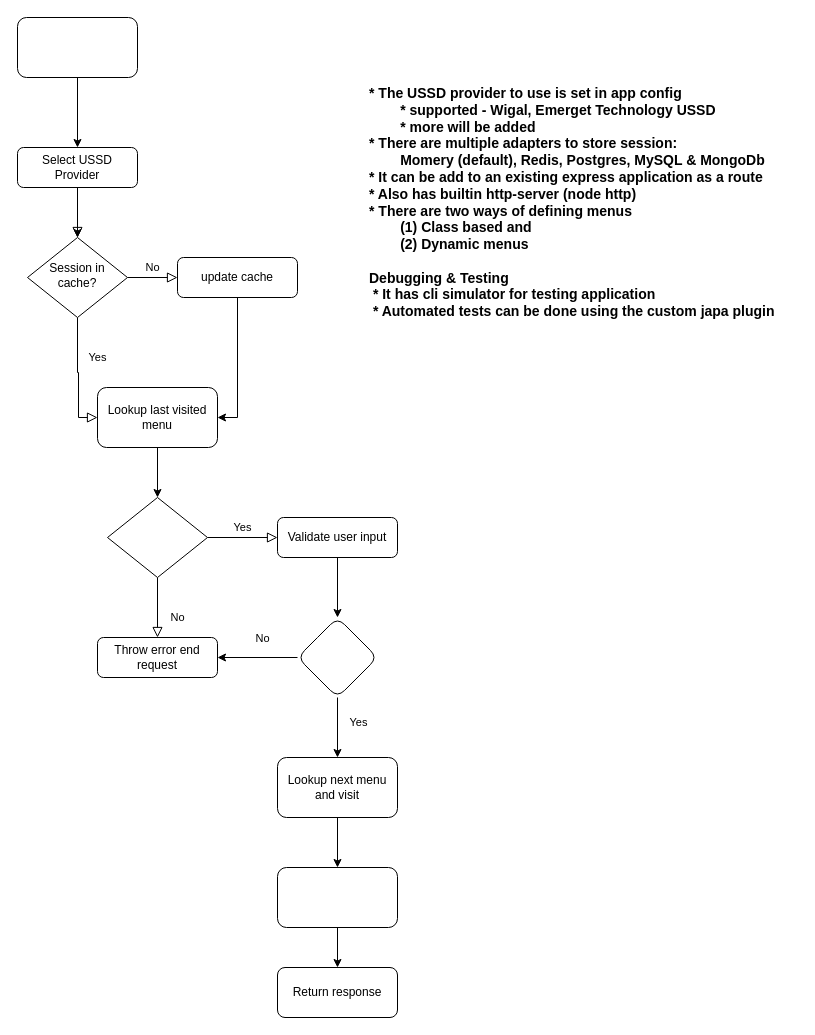
Image size: 815x1035. Some labels were removed from this diagram. Here are the shapes that lost their labels. From the top down, the box of each, then its label:
(16, 16, 138, 78): Income Request
(106, 496, 208, 578): Menu exists?
(296, 616, 378, 698): Input Valid?
(276, 866, 398, 928): Update session cache
